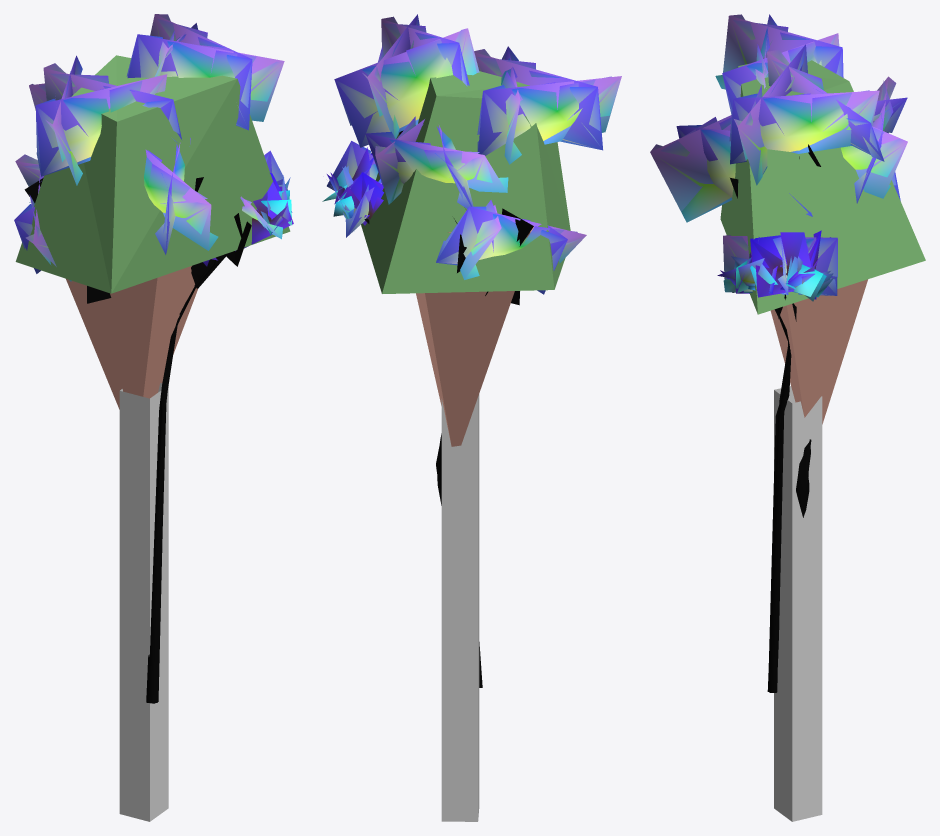
The model's file is cork_oak_filler_small.dae.
3 views of the same model, side by side, from view 1: azimuth 30°, elevation 25°; view 2: azimuth 150°, elevation 25°; view 3: azimuth 270°, elevation 25° (orthographic).
Visible parts, largest first — view 1: Colmesh_cork_oak_filler_small-1, cork_oak_filler_small_a1200, cork_oak_filler_small_a250; view 2: Colmesh_cork_oak_filler_small-1, cork_oak_filler_small_a1200, cork_oak_filler_small_a250; view 3: Colmesh_cork_oak_filler_small-1, cork_oak_filler_small_a1200, cork_oak_filler_small_a250.
Part boxes in pixels (bbox=[...]): Colmesh_cork_oak_filler_small-1: bbox=[15, 55, 290, 821]; cork_oak_filler_small_a1200: bbox=[14, 14, 293, 703]; cork_oak_filler_small_a250: bbox=[14, 14, 291, 702]; Colmesh_cork_oak_filler_small-1: bbox=[361, 71, 570, 821]; cork_oak_filler_small_a1200: bbox=[322, 14, 621, 687]; cork_oak_filler_small_a250: bbox=[327, 14, 621, 677]; Colmesh_cork_oak_filler_small-1: bbox=[720, 60, 925, 821]; cork_oak_filler_small_a1200: bbox=[650, 14, 907, 692]; cork_oak_filler_small_a250: bbox=[650, 15, 907, 691].
Bounding box in the file's own units: 4.3 × 3.9 × 11.95.
